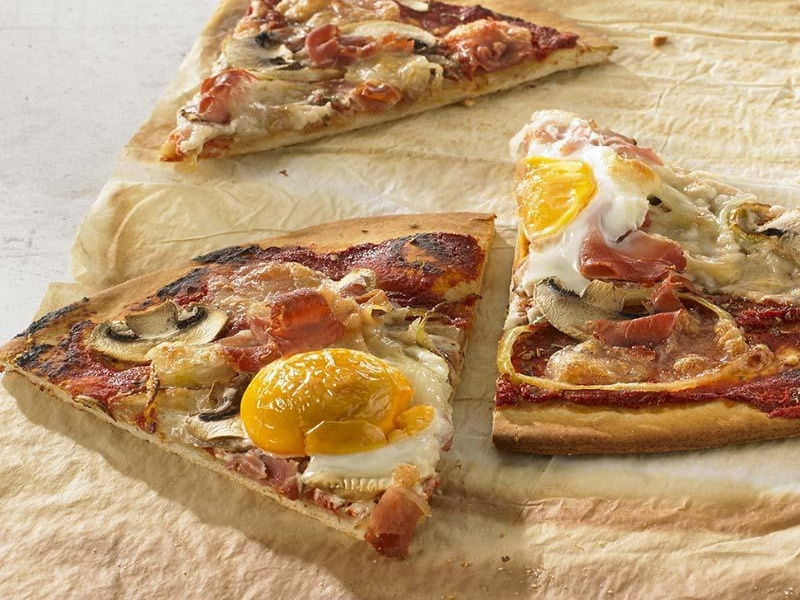champignon: (84, 303, 231, 363), (523, 273, 633, 353)
oeuf: (231, 347, 455, 468), (510, 138, 628, 274)
